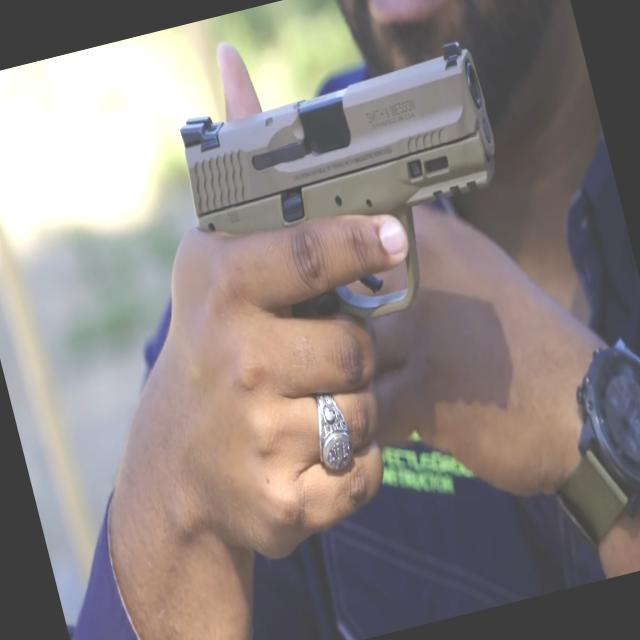handgun: (146, 11, 580, 501)
